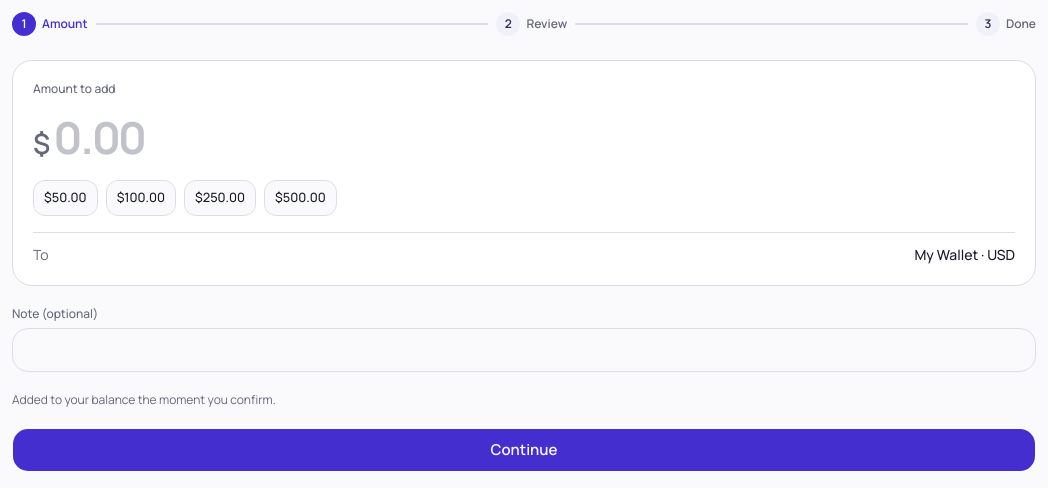
it: MoneyRequestWizard (amount field hygiene) › ignores symbols and letters and caps decimals as you type
Type "$1,2a5.678" into the field labelled "Amount to add". click: (535, 137)
box: [54,113,1015,161]
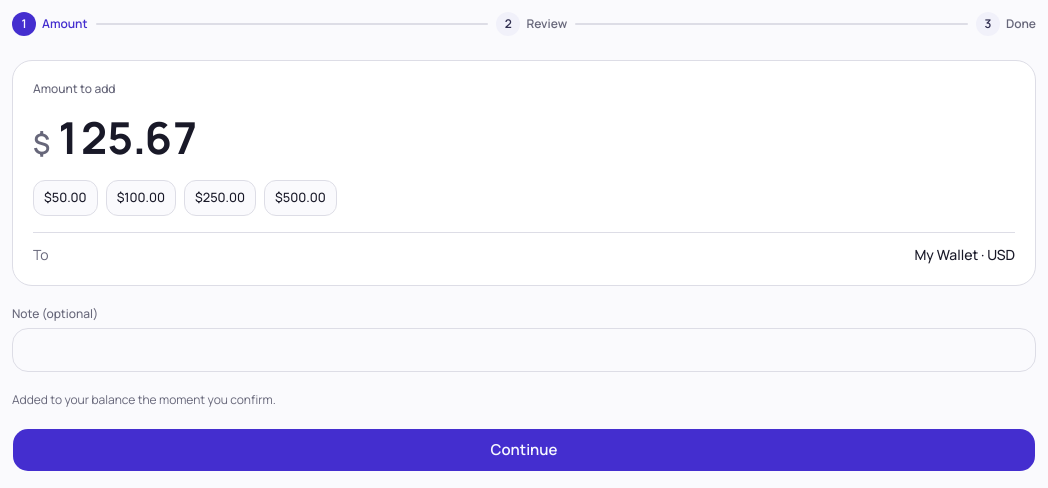
expect the field labelled "Amount to add" holds "125.67": met, box [54,113,1015,161]
